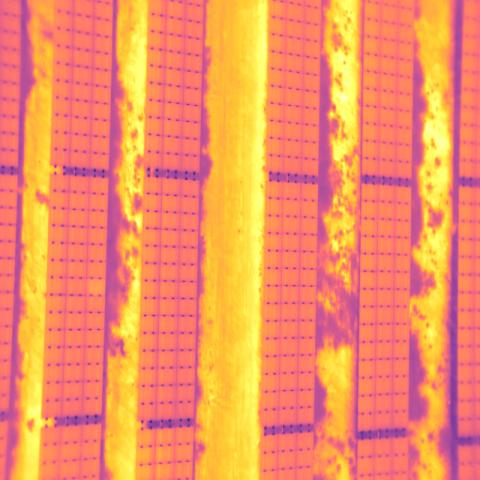fault: (86, 279, 105, 296)
